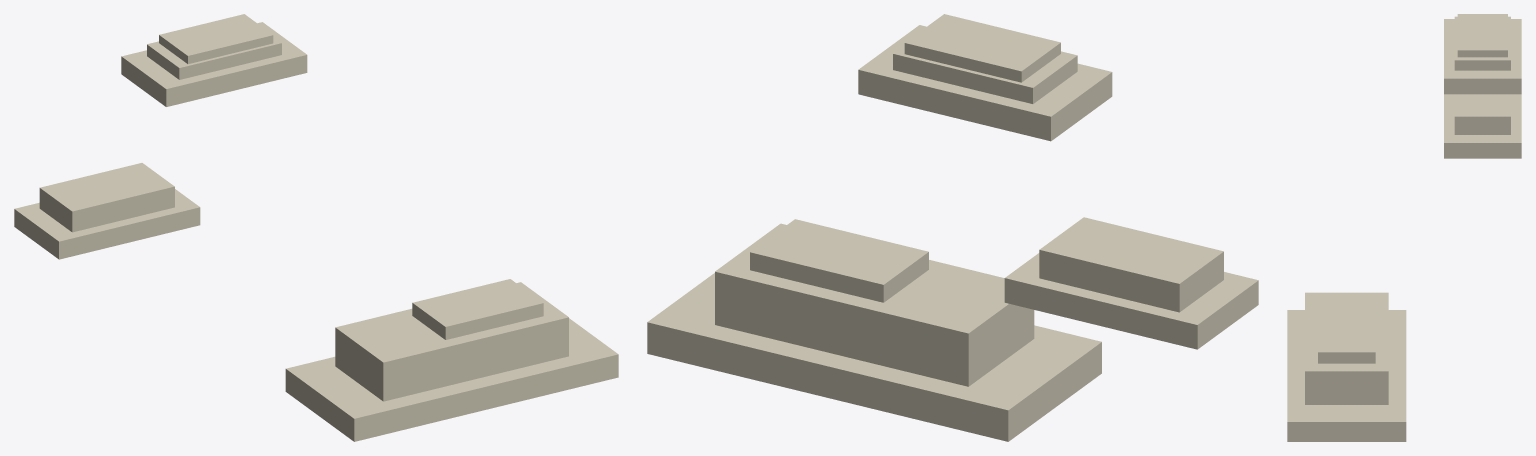
File: Clouds.fbx
The picture shows the model from 3 angles, left to right: view 1: azimuth 30°, elevation 25°; view 2: azimuth 150°, elevation 25°; view 3: azimuth 270°, elevation 25°; orthographic projection. The views are drawn at different scales.
Visible parts, largest first — view 1: Nuvem_3, Nuvem_1, Nuvem_2; view 2: Nuvem_3, Nuvem_1, Nuvem_2; view 3: Nuvem_3, Nuvem_2, Nuvem_1.
Boxes of the visible parts, x1,y1,x2,y2 form: Nuvem_3: (285, 279, 618, 441); Nuvem_1: (14, 163, 200, 259); Nuvem_2: (121, 14, 307, 106); Nuvem_3: (647, 219, 1101, 441); Nuvem_1: (1004, 217, 1258, 349); Nuvem_2: (858, 14, 1112, 141); Nuvem_3: (1287, 292, 1406, 441); Nuvem_2: (1444, 14, 1521, 94); Nuvem_1: (1444, 94, 1521, 158).
Bounding box in the file's own units: 7127 × 4799 × 3553.
